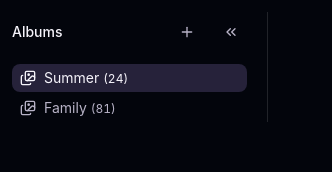
it: OrganizerSidebar › renders rows, add action, and selection
Expected: the navigation bar named "Albums" is shown, top-left (12, 64), bottom-right (251, 122)
Expected: the text "(24)" is shown, top-left (103, 71), bottom-right (128, 86)
Click the button "Family (81)". click: click(68, 108)
box: top-left (20, 94), bottom-right (116, 122)
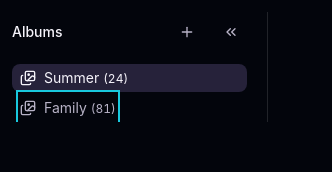
Click the button named "Add album". click: click(187, 32)
box: top-left (167, 12), bottom-right (207, 52)
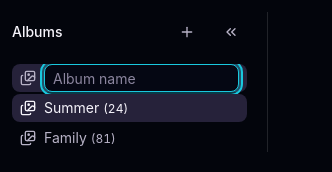
Expected: the field named "New album name" is shown, top-left (44, 64), bottom-right (239, 92)
